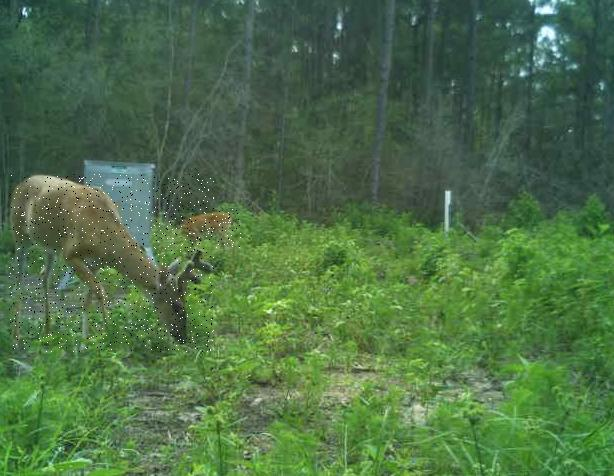Deer: (9, 174, 214, 352), (174, 209, 242, 249)
